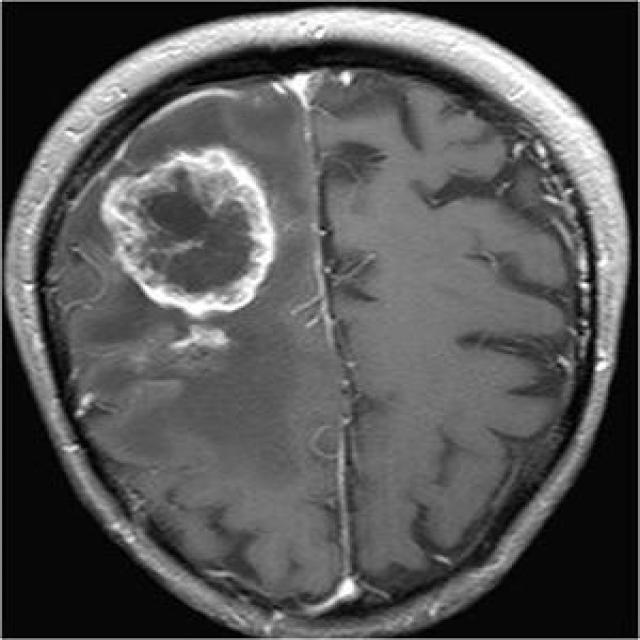Tumor-Cell: (86, 157, 306, 325)
